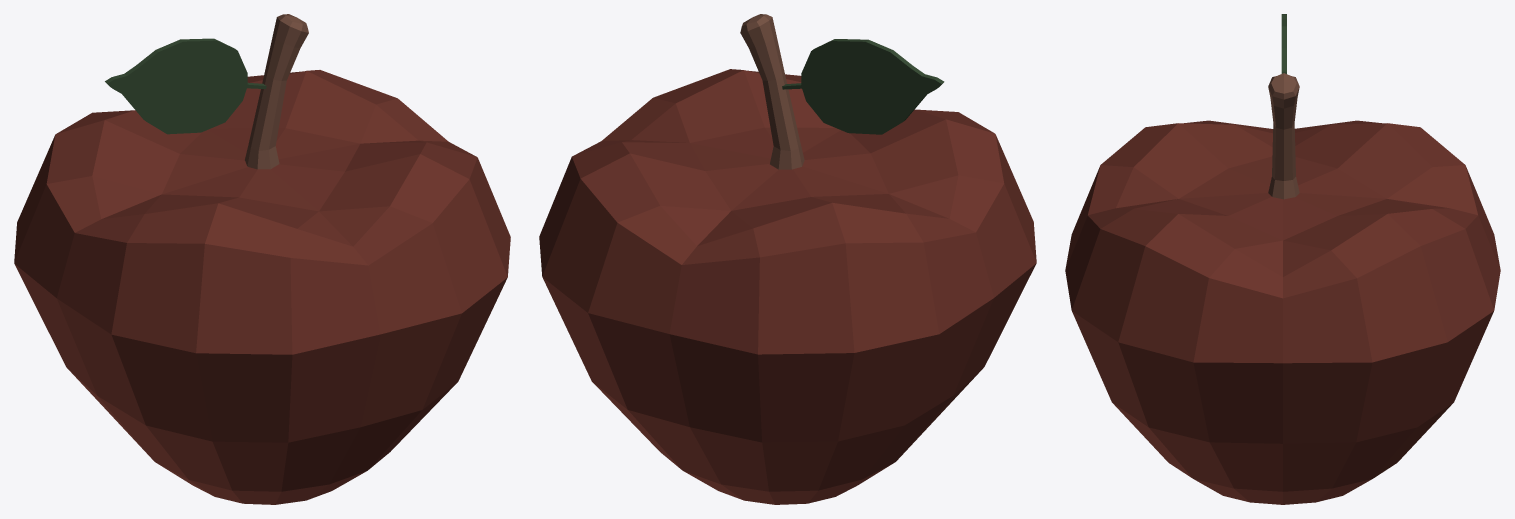
Rendered from Apple.gltf.
3 renders of one model, left to right at view 1: azimuth 30°, elevation 25°; view 2: azimuth 150°, elevation 25°; view 3: azimuth 270°, elevation 25°, orthographic. The views are drawn at different scales.
Parts seen in each view (by area): view 1: Apple; view 2: Apple; view 3: Apple.
Boxes of the visible parts, x1,y1,x2,y2 form: Apple: [14, 14, 510, 504]; Apple: [539, 14, 1036, 504]; Apple: [1065, 14, 1500, 504].
Size of the model in its own units: 0.8025 by 0.8517 by 0.7987.
